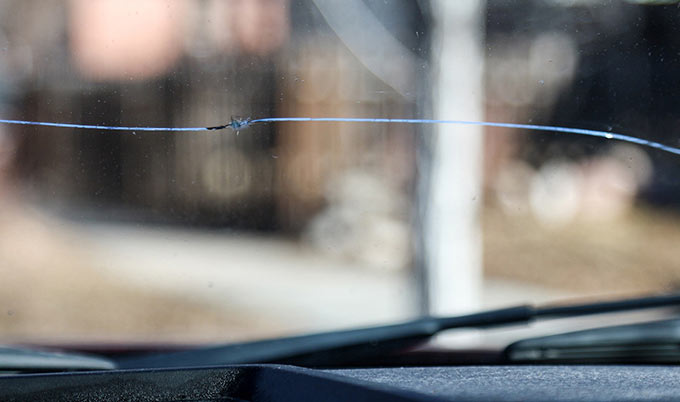scratch: (3, 110, 674, 169)
